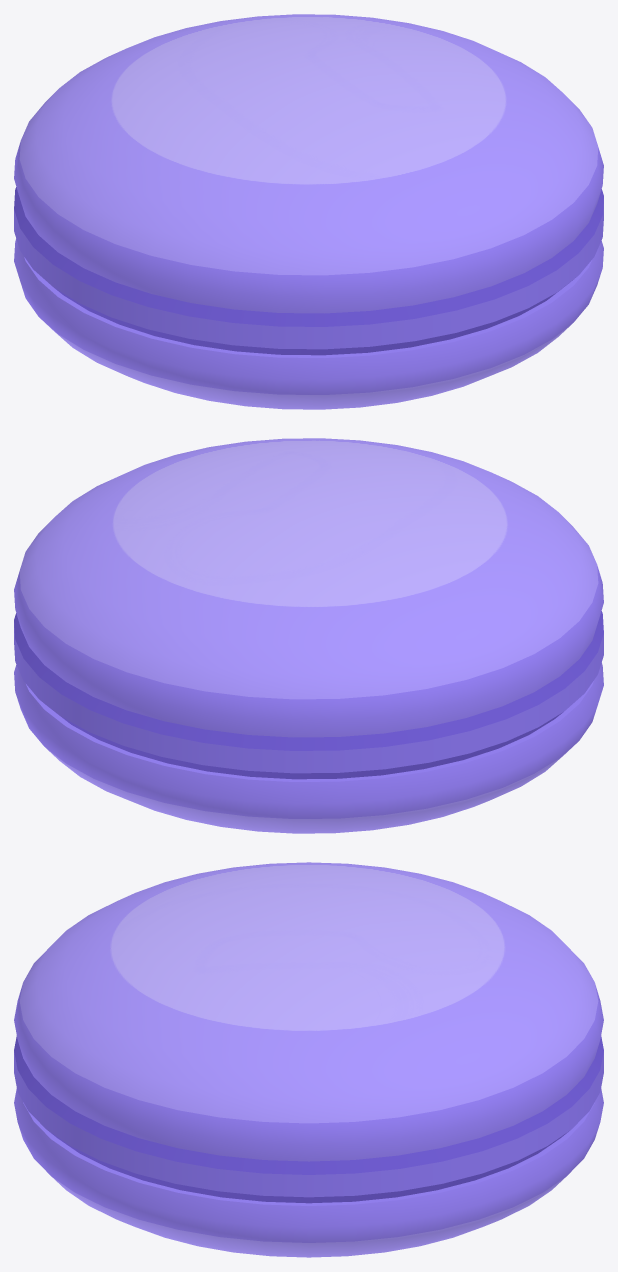
File: Purple_Cookie.glb
3 views of the same model, one above another, from view 1: azimuth 30°, elevation 25°; view 2: azimuth 150°, elevation 25°; view 3: azimuth 270°, elevation 25° (orthographic).
Parts seen in each view (by area): view 1: CV6_1_Cookie_V22_0; view 2: CV6_1_Cookie_V22_0; view 3: CV6_1_Cookie_V22_0.
Boxes of the visible parts, bbox=[...] form: CV6_1_Cookie_V22_0: bbox=[14, 14, 603, 409]; CV6_1_Cookie_V22_0: bbox=[14, 438, 603, 833]; CV6_1_Cookie_V22_0: bbox=[14, 862, 603, 1257].
Bounding box in the file's own units: 12 × 6.1 × 12.
Materials: 1 (1 with a texture image).
